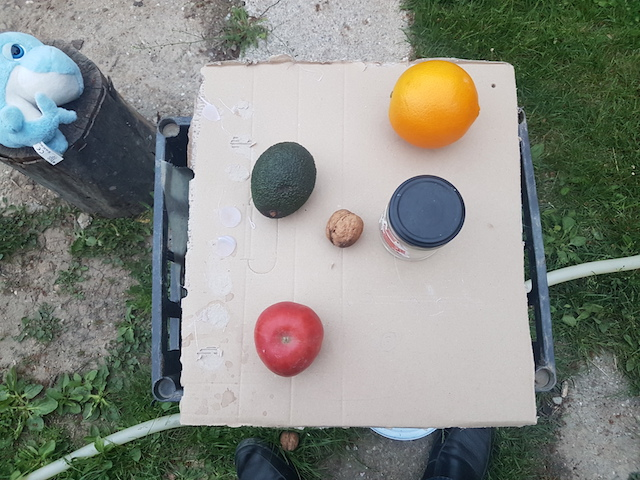apple: (253, 301, 324, 374)
avocado: (250, 139, 319, 219)
nut: (324, 206, 364, 249)
orange: (383, 59, 480, 152)
recipient: (389, 173, 465, 247)
